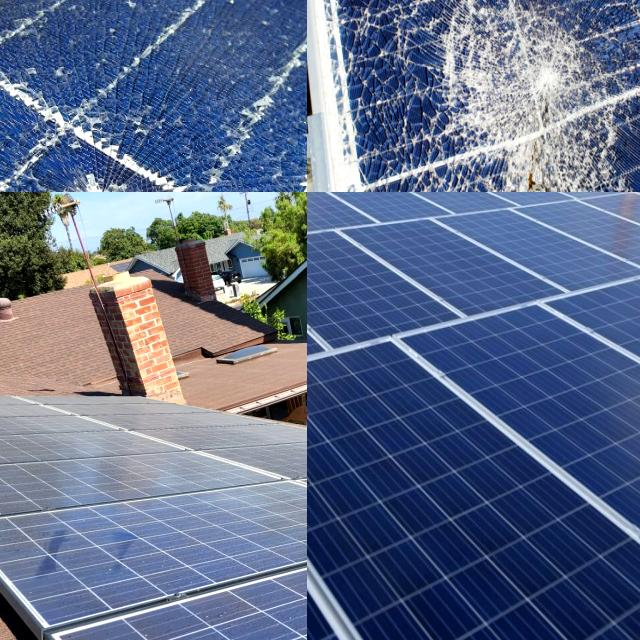crack: (314, 204, 572, 346), (419, 202, 640, 321), (352, 458, 496, 599), (307, 455, 400, 624), (420, 478, 538, 594), (534, 361, 640, 474), (457, 328, 575, 420), (320, 192, 458, 241), (307, 471, 359, 601), (354, 388, 424, 479), (392, 192, 515, 238), (307, 386, 365, 482), (307, 206, 382, 278), (338, 276, 402, 360), (307, 250, 368, 333), (307, 192, 376, 264), (307, 192, 384, 252), (307, 277, 355, 372), (307, 297, 350, 386), (307, 192, 372, 235), (307, 192, 366, 226), (307, 192, 366, 223)
dust: (30, 516, 307, 556)
hotspot: (429, 0, 640, 192), (55, 146, 160, 192)
